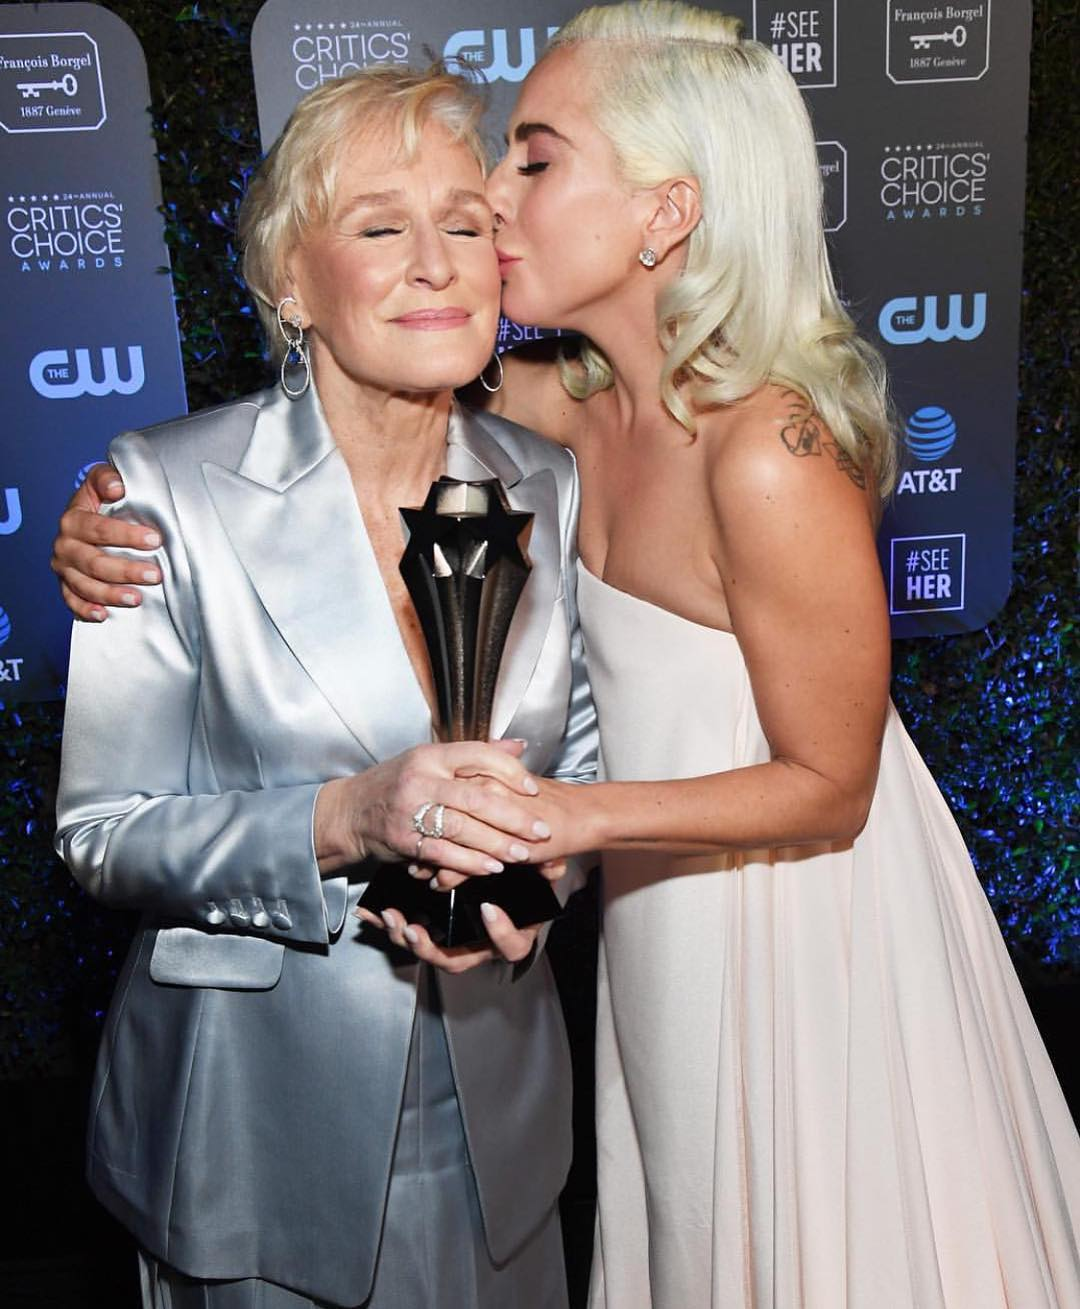hand: (342, 743, 553, 874)
